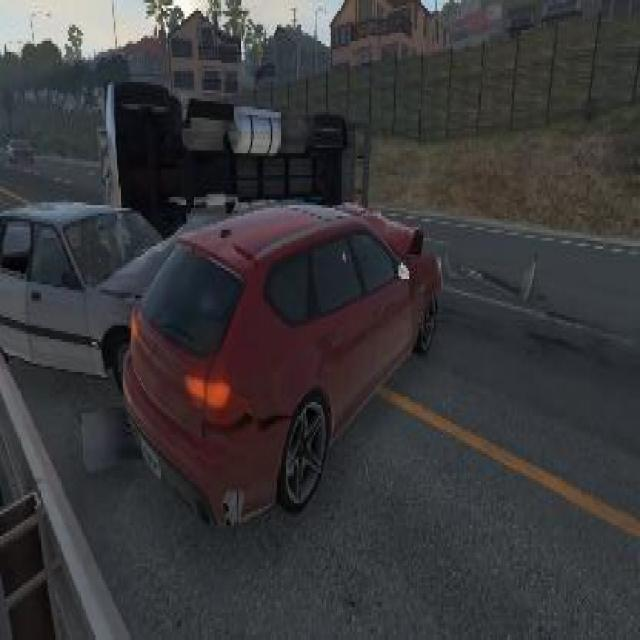accident: (0, 159, 445, 533), (84, 60, 364, 285)
